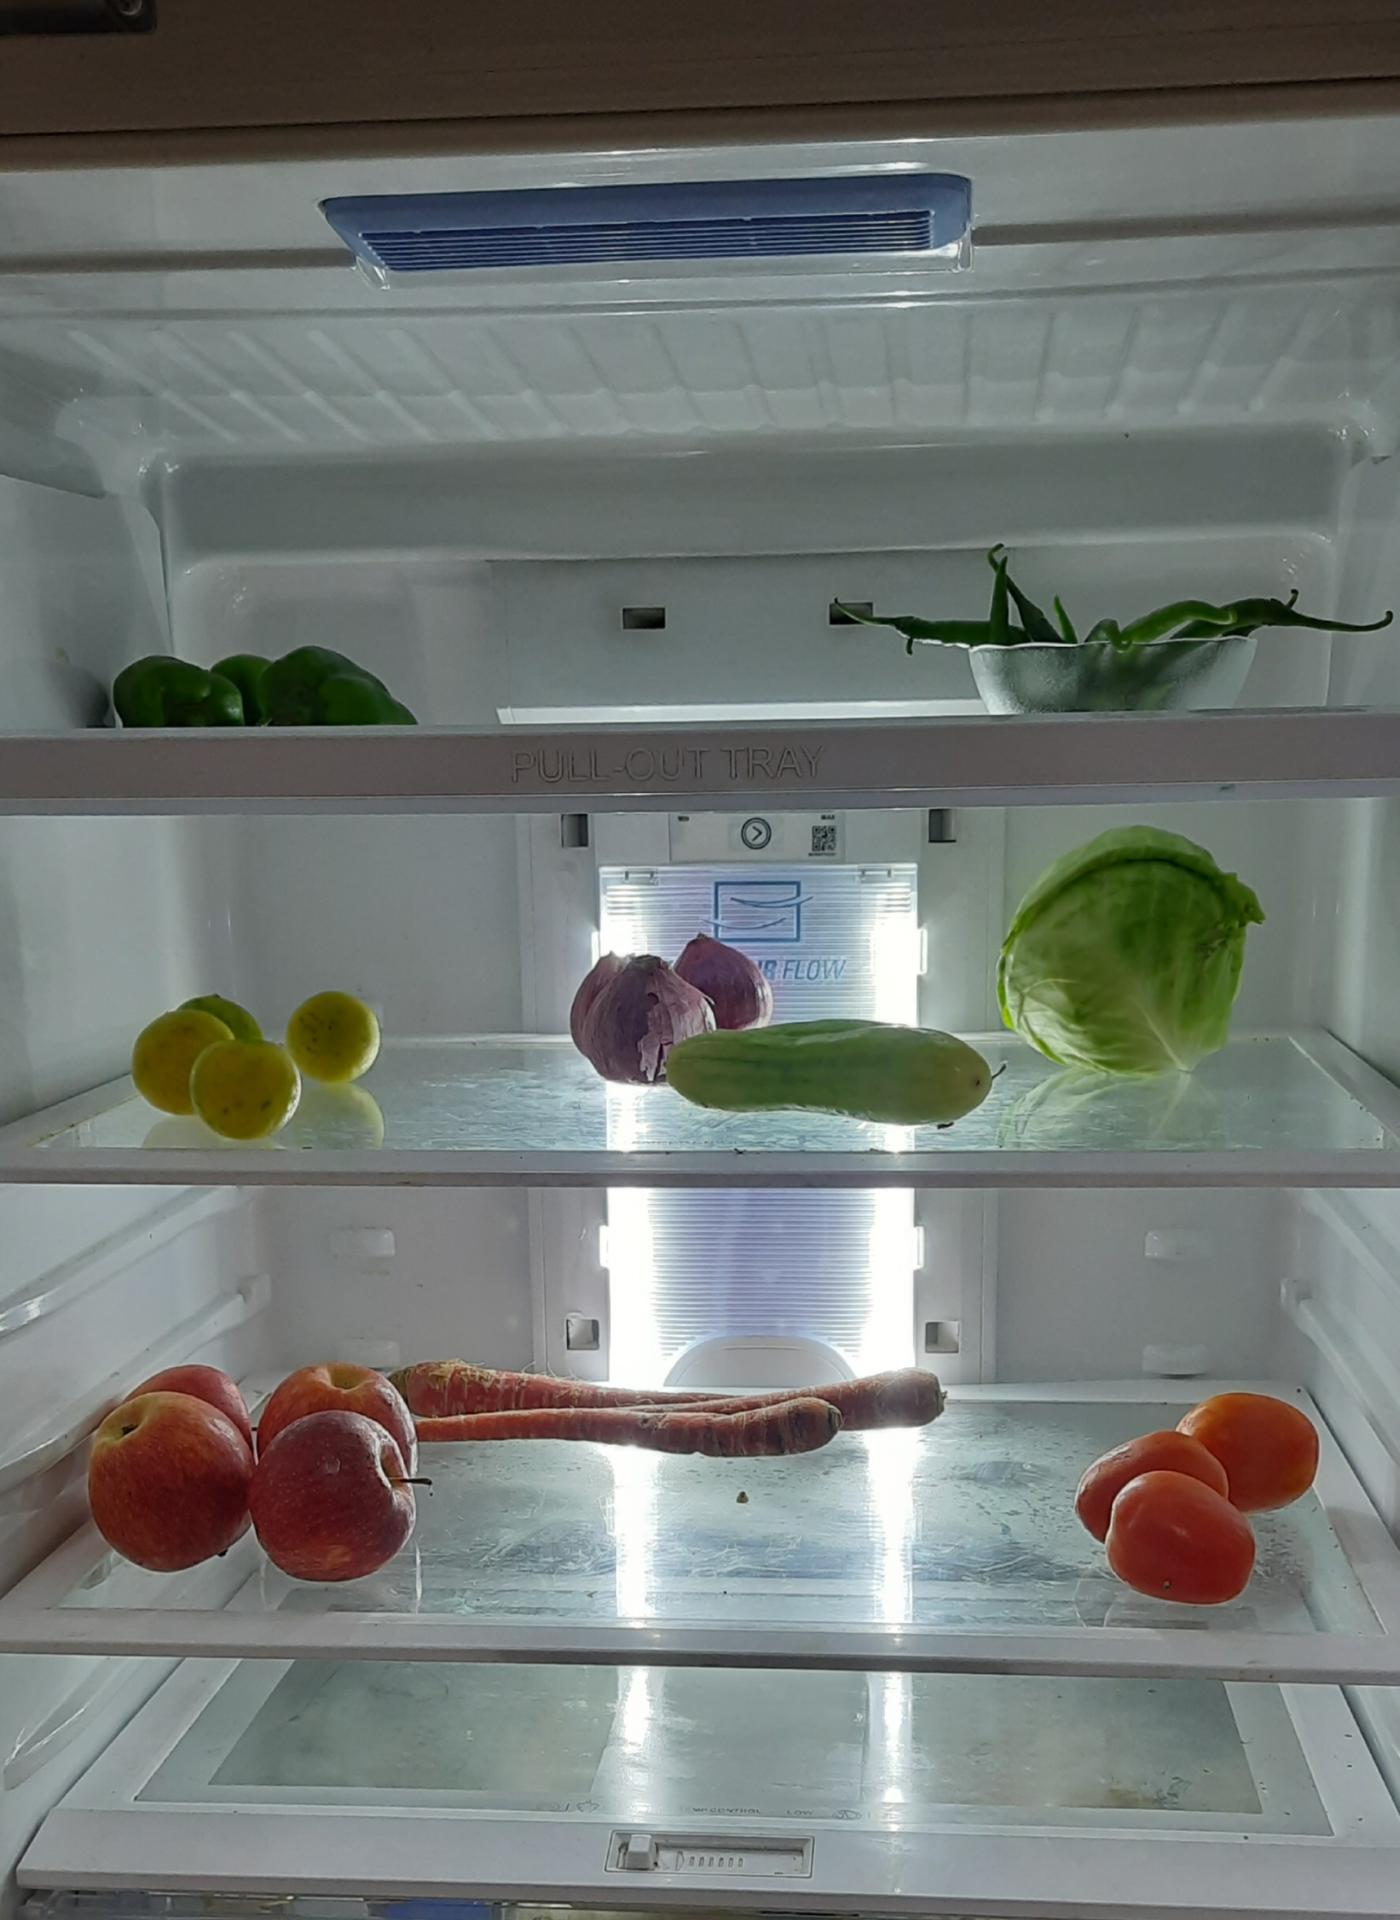apple: (98, 1360, 422, 1583)
cabbage: (994, 826, 1263, 1078)
capsicum: (97, 629, 417, 724)
carrots: (394, 1349, 950, 1458)
chillies: (871, 559, 1384, 714)
cucumber: (655, 1021, 1011, 1120)
lemon: (127, 981, 397, 1134)
onion: (568, 944, 772, 1087)
tomato: (1081, 1382, 1330, 1597)
